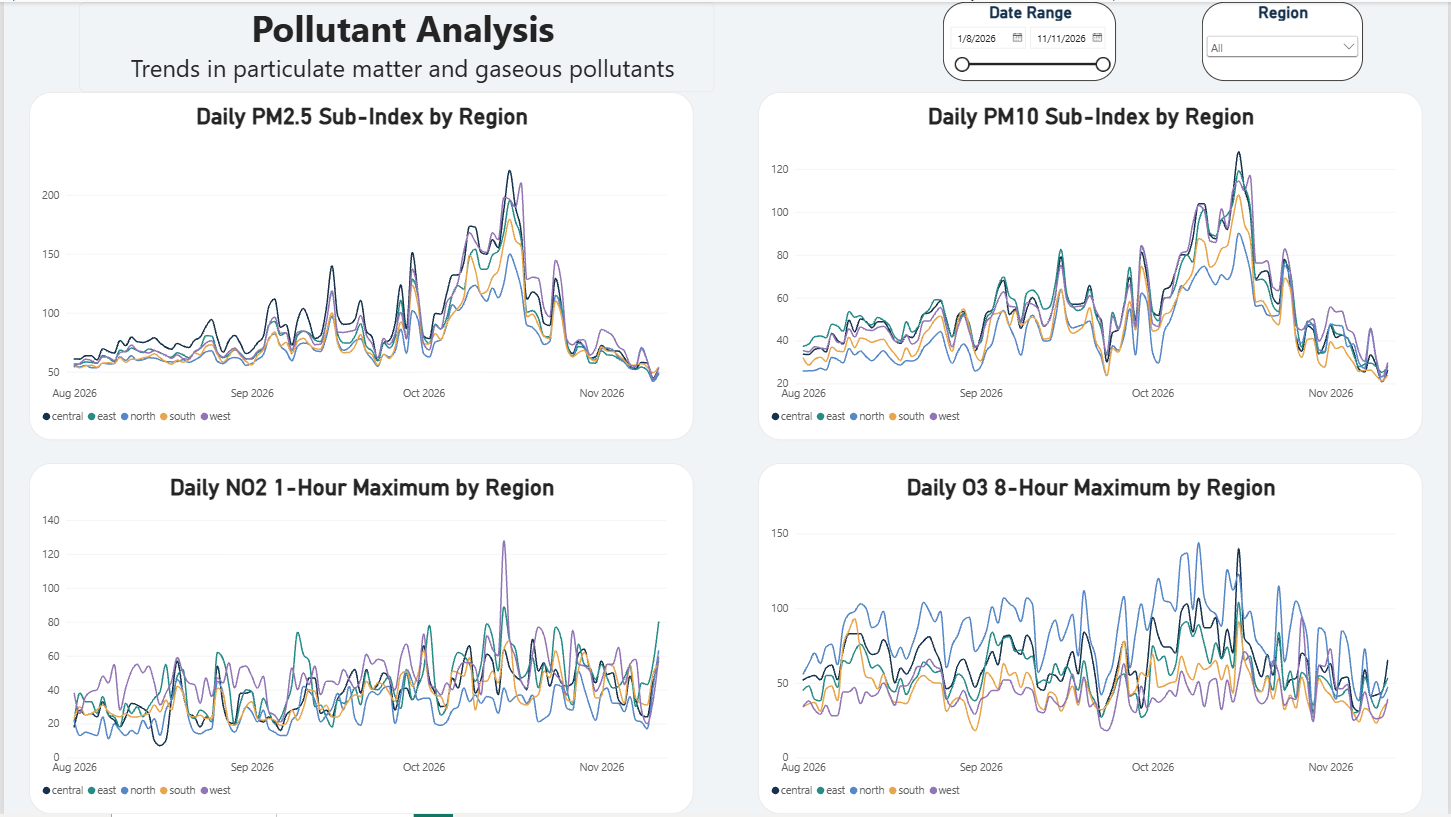

The page's visual inventory and layout, read from the dashboard file:
{"tool":"powerbi","page":{"name":"Pollutant Analysis","canvas":[1920,1080],"ordinal":1},"visuals":[{"type":"lineChart","title":"Daily PM2.5 Sub-Index by Region","fields":{"Category":["public haze_psi.Date"],"Series":["public haze_psi.Region"],"Y":["public haze_psi.Daily Average Reading"]},"box":[33.3,119.7,884.5,462.9],"z":0},{"type":"lineChart","title":"Daily  PM10 Sub-Index by Region","fields":{"Category":["public haze_psi.Date"],"Series":["public haze_psi.Region"],"Y":["public haze_psi.Daily Average Reading"]},"box":[1002.9,119.7,884.5,462.9],"z":1000},{"type":"lineChart","title":"Daily NO2 1-Hour Maximum by Region","fields":{"Category":["public haze_psi.Date"],"Series":["public haze_psi.Region"],"Y":["public haze_psi.Daily Maximum Reading"]},"box":[33.3,613.2,884.5,466.8],"z":2000},{"type":"lineChart","title":"Daily O3 8-Hour Maximum by Region","fields":{"Category":["public haze_psi.Date"],"Series":["public haze_psi.Region"],"Y":["public haze_psi.Daily Maximum Reading"]},"box":[1002.9,613.2,884.5,466.8],"z":3000},{"type":"slicer","title":"Date Range","fields":{"Values":["public haze_psi.Date"]},"box":[1248.9,0,230.1,105.1],"z":4000},{"type":"slicer","title":"Region","fields":{"Values":["public haze_psi.Region"]},"box":[1593.4,0,214.1,105.1],"z":5000},{"type":"textbox","box":[100,0,845.2,119.7],"z":6000}]}

Visuals, with their boxes in screenshot pixels (x1, y1, x2, y2), scaled from the page's 1920x1080 canvas onto the 1451x817 screenshot:
"Daily PM2.5 Sub-Index by Region" lineChart: locate(25, 91, 694, 441)
"Daily  PM10 Sub-Index by Region" lineChart: locate(758, 91, 1426, 441)
"Daily NO2 1-Hour Maximum by Region" lineChart: locate(25, 464, 694, 816)
"Daily O3 8-Hour Maximum by Region" lineChart: locate(758, 464, 1426, 816)
"Date Range" slicer: locate(944, 0, 1118, 80)
"Region" slicer: locate(1204, 0, 1366, 80)
textbox: locate(76, 0, 714, 91)
